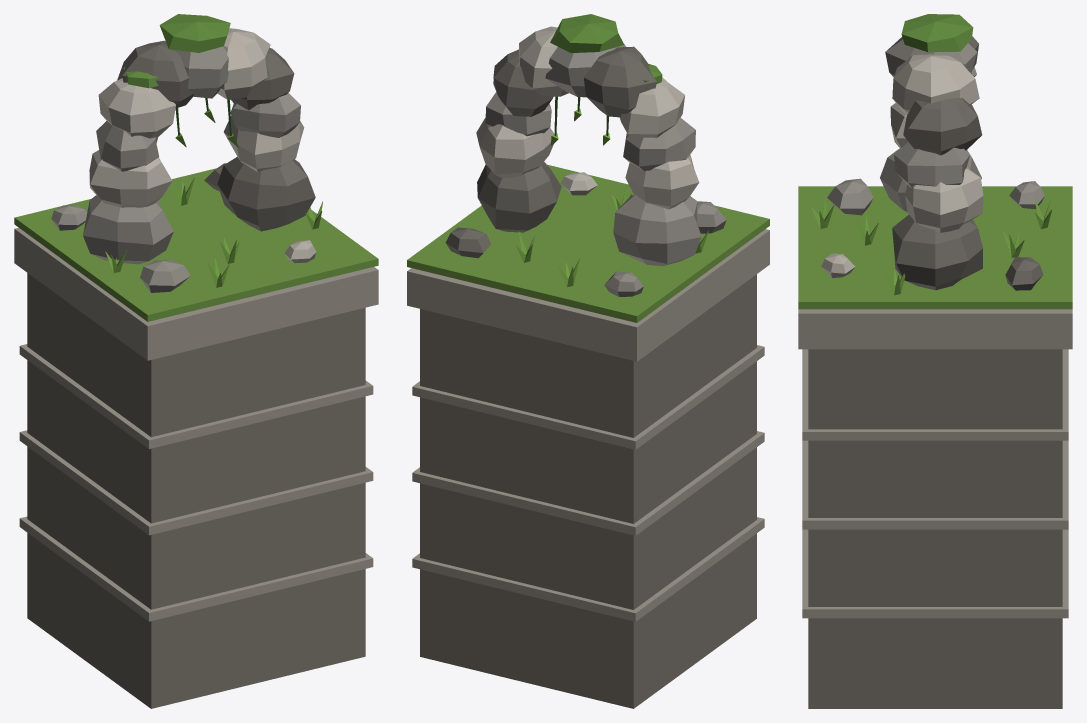
Rendered from decor_natural_arch.glb.
3 renders of one model, left to right at view 1: azimuth 30°, elevation 25°; view 2: azimuth 150°, elevation 25°; view 3: azimuth 270°, elevation 25°, orthographic. The views are drawn at different scales.
Visible parts, largest first — view 1: decor_natural_arch; view 2: decor_natural_arch; view 3: decor_natural_arch.
Part boxes in pixels (x1=…): decor_natural_arch: x1=14, y1=14, x2=378, y2=708; decor_natural_arch: x1=407, y1=14, x2=769, y2=708; decor_natural_arch: x1=798, y1=14, x2=1072, y2=708.
Size of the model in its own units: 2.8 by 7.14 by 2.8.
